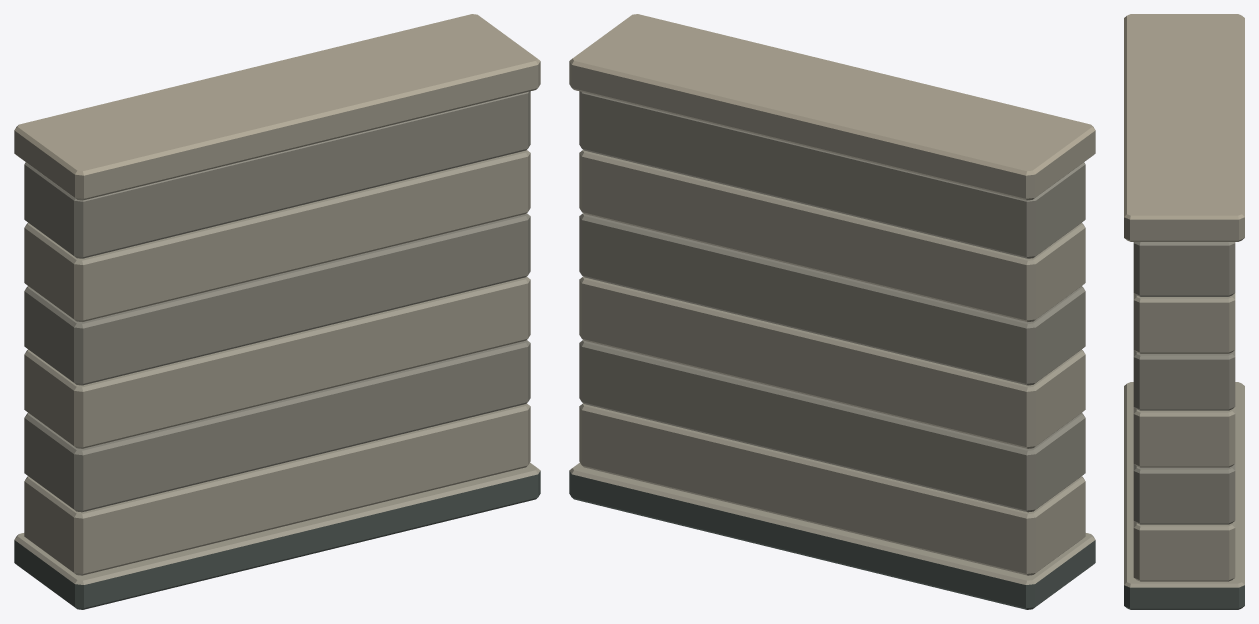
The model's file is wall-tall.glb.
3 views of the same model, side by side, from view 1: azimuth 30°, elevation 25°; view 2: azimuth 150°, elevation 25°; view 3: azimuth 270°, elevation 25° (orthographic). The views are drawn at different scales.
Parts seen in each view (by area): view 1: wall-tall__body; view 2: wall-tall__body; view 3: wall-tall__body.
Part boxes in pixels (box(x1,y1,x2,y2)): wall-tall__body: box(14, 14, 540, 609); wall-tall__body: box(569, 14, 1095, 609); wall-tall__body: box(1124, 14, 1244, 609).
Bounding box in the file's own units: 2 × 1.8 × 0.5.
